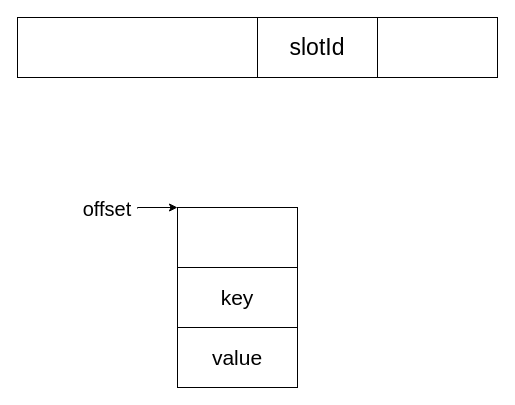
This 515x405 diagram has some shape labels left out. Here are the shapes that lost their labels. From the top down, the box of each, then its label:
(16, 16, 258, 78): hash16
(176, 206, 298, 268): header
